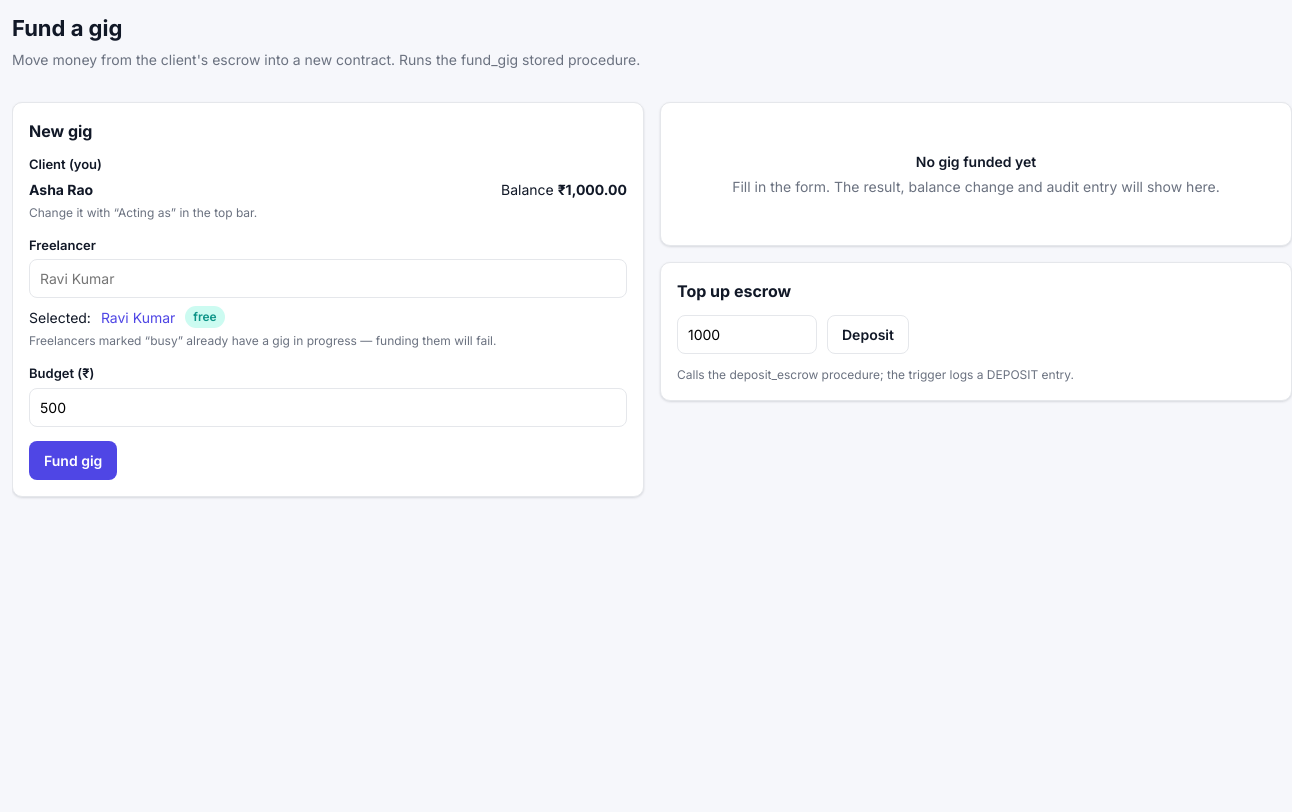
Test: Fund a gig › success shows balance before/after and the new audit log entry
expect the link "Ravi Kumar" is shown: met, box [101,306,175,328]
Replace the text in the number field named "Budget" with "250": (328, 407) [29,388,627,426]
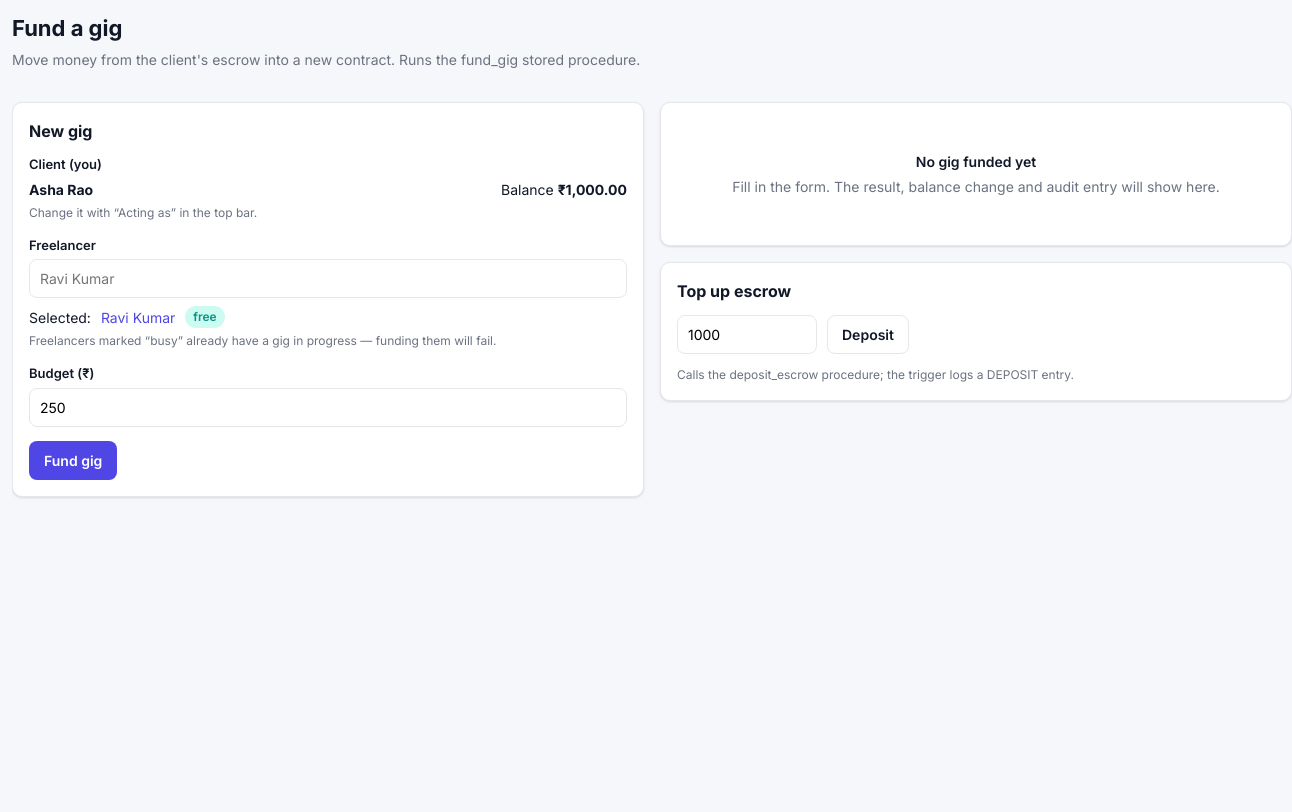
Click the button "Fund gig": click(73, 460) [29,440,117,480]
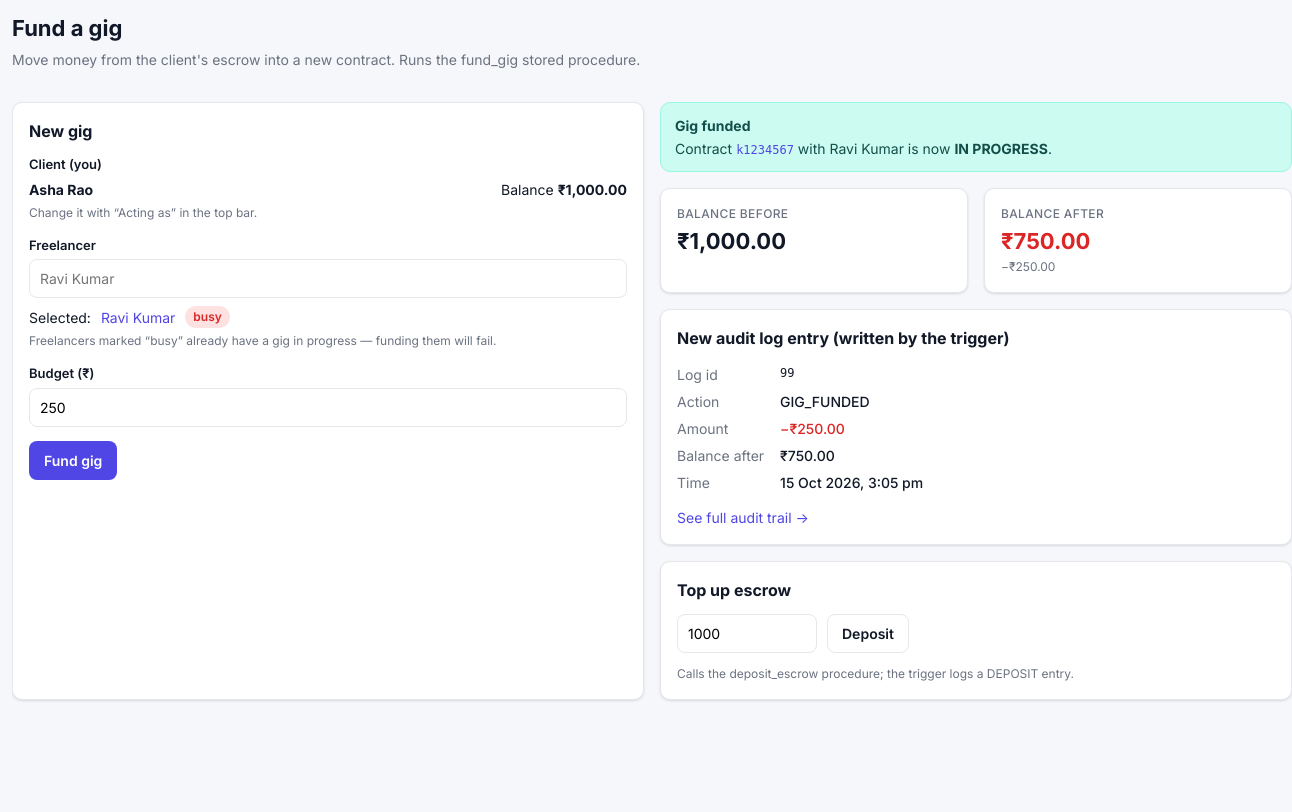
expect the text "Balance before" is shown: met, box [677,206,788,221]
expect the text "GIG_FUNDED" is shown: met, box [780,393,870,410]
expect the heading "New audit log entry (written by the trigger)" is shown: met, box [677,326,1010,350]
